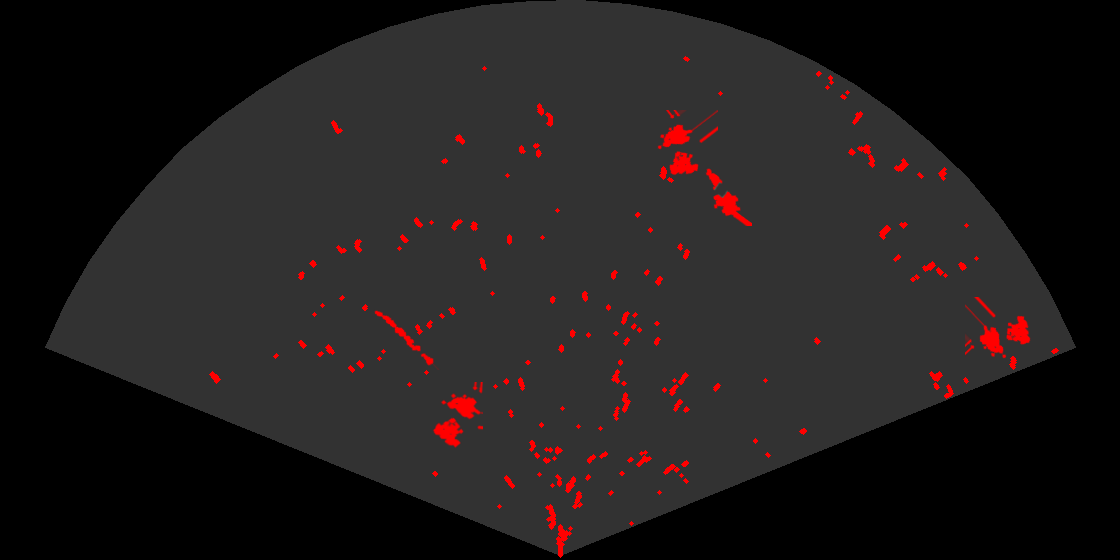cage: (965, 297, 1032, 360), (656, 110, 718, 177), (431, 382, 483, 450)
chain: (373, 309, 441, 370)
frogman: (704, 167, 752, 226)
